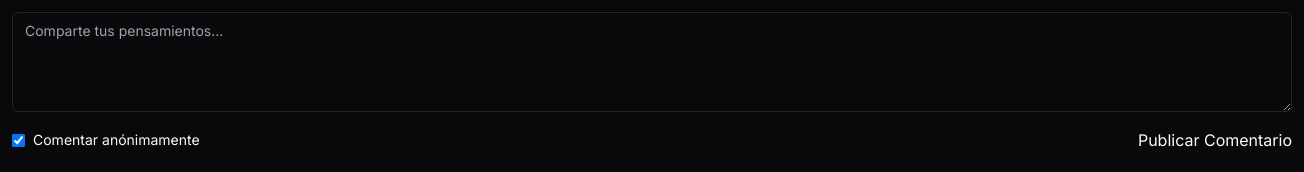
Test: CommentForm Component › toggles anonymous checkbox
Click the checkbox: click(18, 140) left=12, top=134, right=25, bottom=146
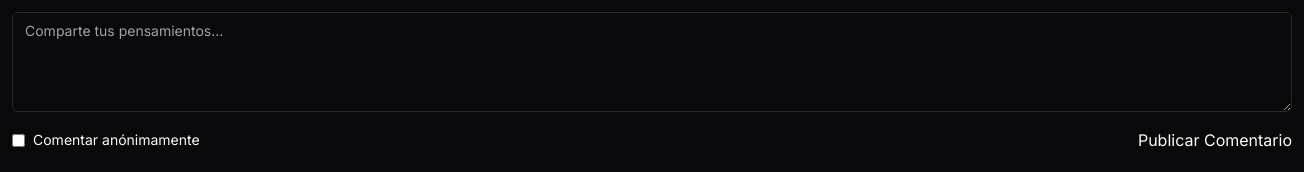
Now the checkbox is not checked, box left=12, top=134, right=25, bottom=146
